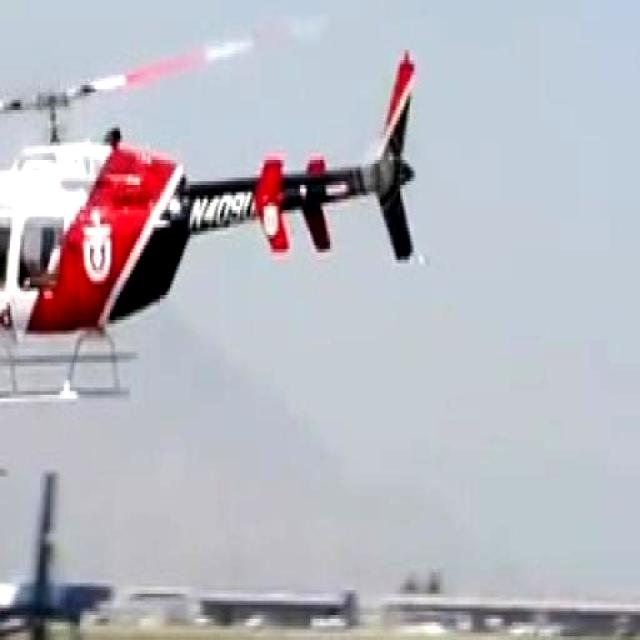drone: (0, 20, 425, 416)
